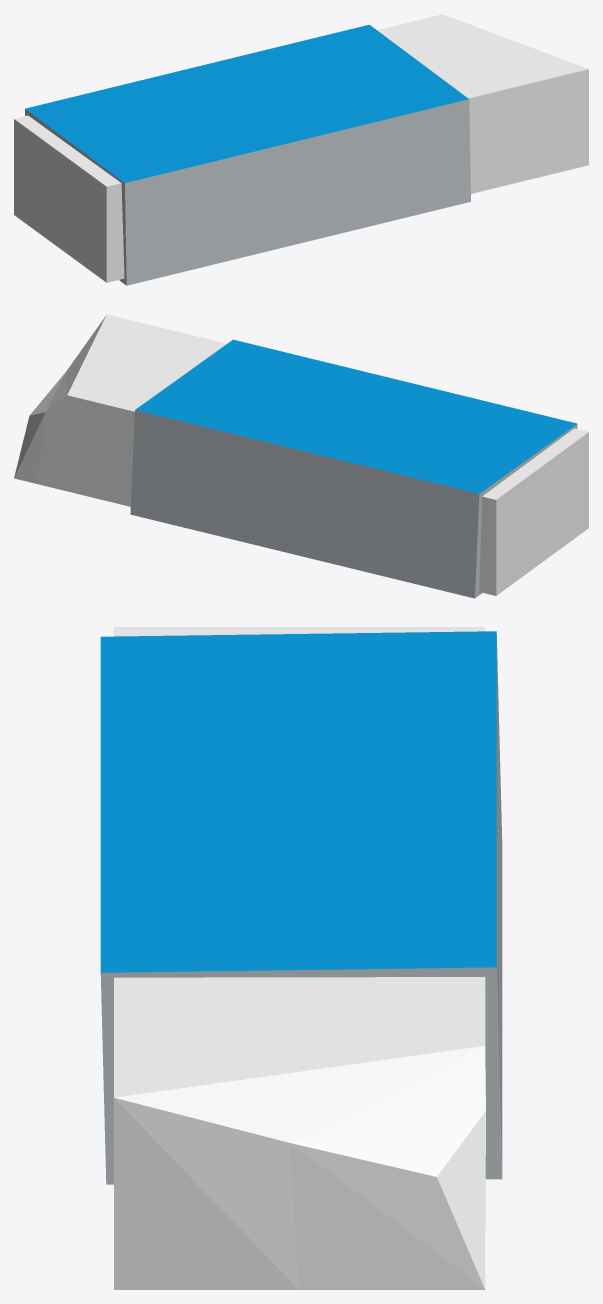
File: White Eraser.glb
3 views of the same model, one above another, from view 1: azimuth 30°, elevation 25°; view 2: azimuth 150°, elevation 25°; view 3: azimuth 270°, elevation 25° (orthographic). The views are drawn at different scales.
Visible parts, largest first — view 1: Node; view 2: Node; view 3: Node.
Boxes of the visible parts, x1=… form: Node: x1=14, y1=14, x2=588, y2=285; Node: x1=14, y1=314, x2=588, y2=598; Node: x1=100, y1=627, x2=502, y2=1289.
Bounding box in the file's own units: 0.21 × 0.0444 × 0.0757.
